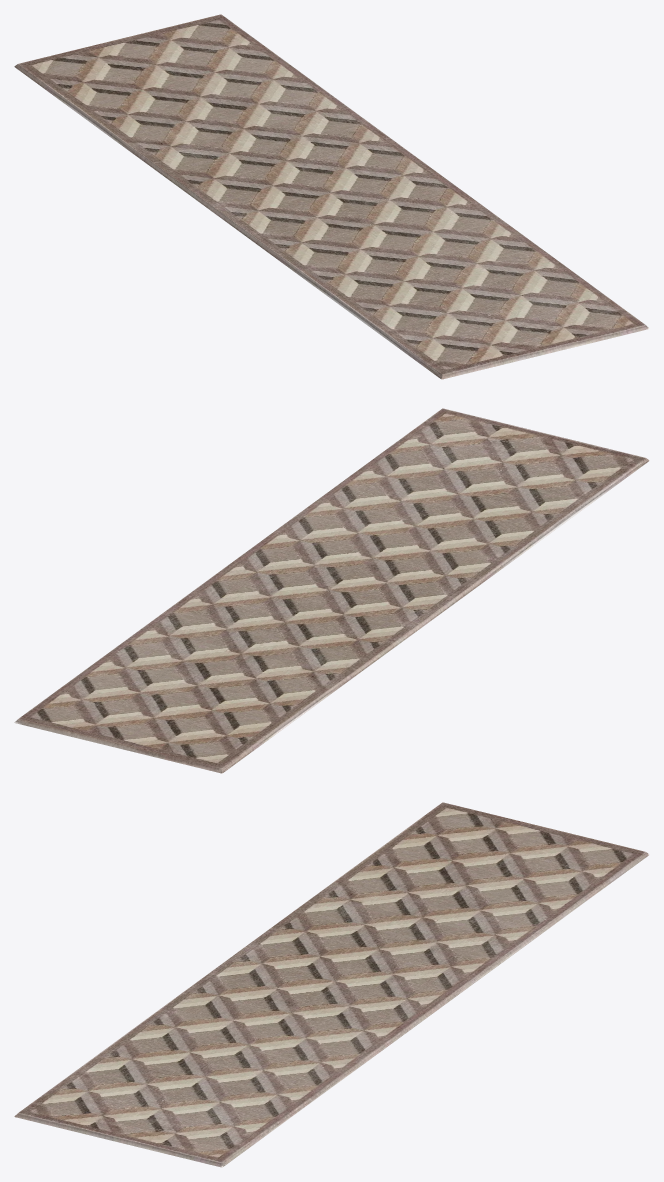
3 renders of one model, top to bottom at view 1: azimuth 30°, elevation 25°; view 2: azimuth 150°, elevation 25°; view 3: azimuth 330°, elevation 25°, orthographic.
Parts seen in each view (by area): view 1: B075LB2WD8; view 2: B075LB2WD8; view 3: B075LB2WD8.
Boxes of the visible parts, x1=… form: B075LB2WD8: x1=14, y1=14, x2=649, y2=379; B075LB2WD8: x1=14, y1=408, x2=649, y2=773; B075LB2WD8: x1=14, y1=802, x2=649, y2=1167.
Size of the model in its own units: 0.6859 by 0.0101 by 2.44.
Materials: 1 (1 with a texture image).
